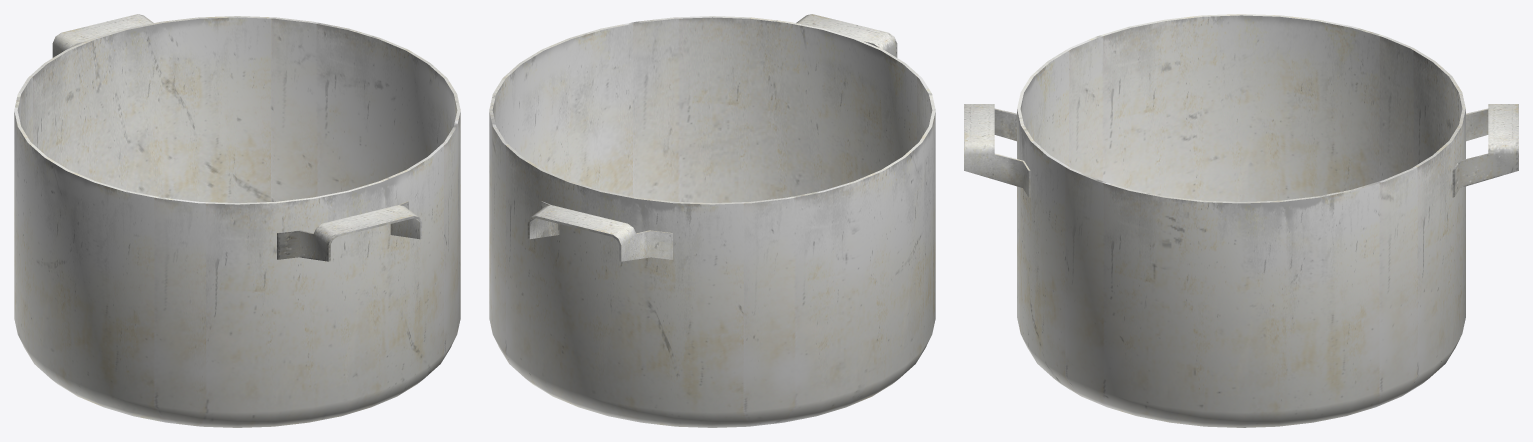
Rendered from Pan01.FBX.
3 views of the same model, side by side, from view 1: azimuth 30°, elevation 25°; view 2: azimuth 150°, elevation 25°; view 3: azimuth 270°, elevation 25° (orthographic).
Visible parts, largest first — view 1: Pan01_LOD0; view 2: Pan01_LOD0; view 3: Pan01_LOD0.
Boxes of the visible parts, x1=… form: Pan01_LOD0: x1=14, y1=14, x2=460, y2=427; Pan01_LOD0: x1=489, y1=14, x2=935, y2=427; Pan01_LOD0: x1=964, y1=14, x2=1518, y2=427.
Bounding box in the file's own units: 20.64 × 25.54 × 12.09.
